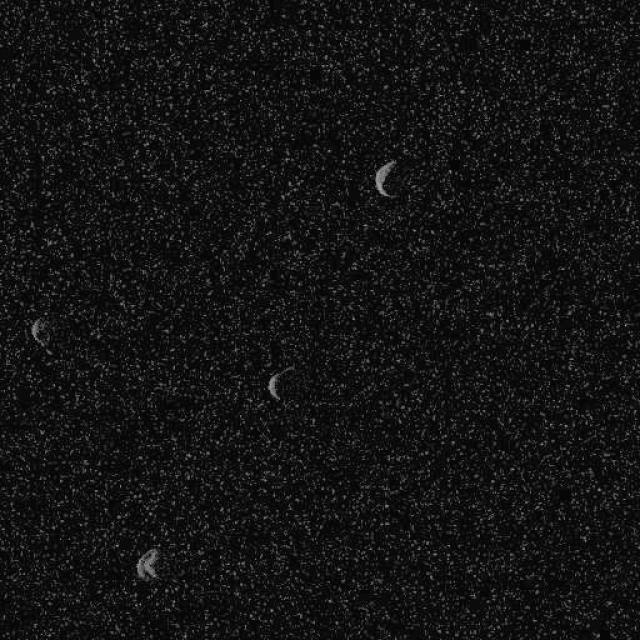D2: (266, 363, 294, 402), (372, 158, 398, 198), (135, 546, 161, 582), (28, 315, 52, 350)
